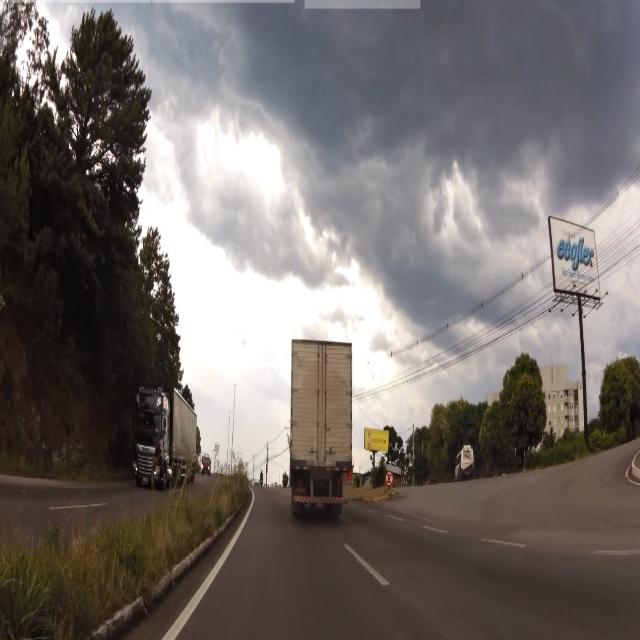R-6c: (386, 472, 393, 486)
